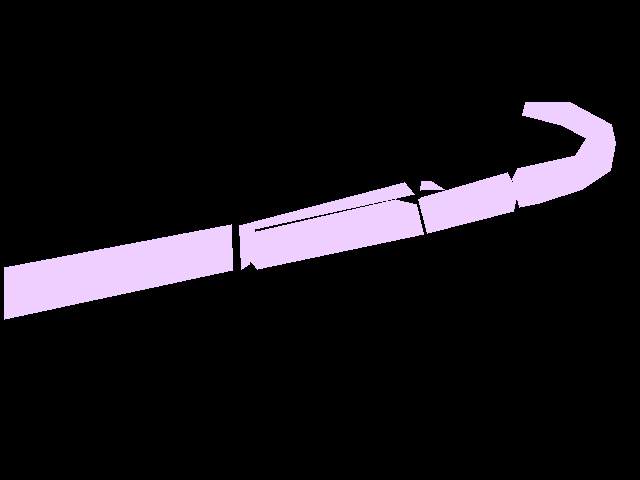Train: (4, 181, 445, 320), (248, 102, 615, 269)
